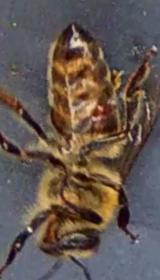varroa_mite: (85, 93, 122, 130)
